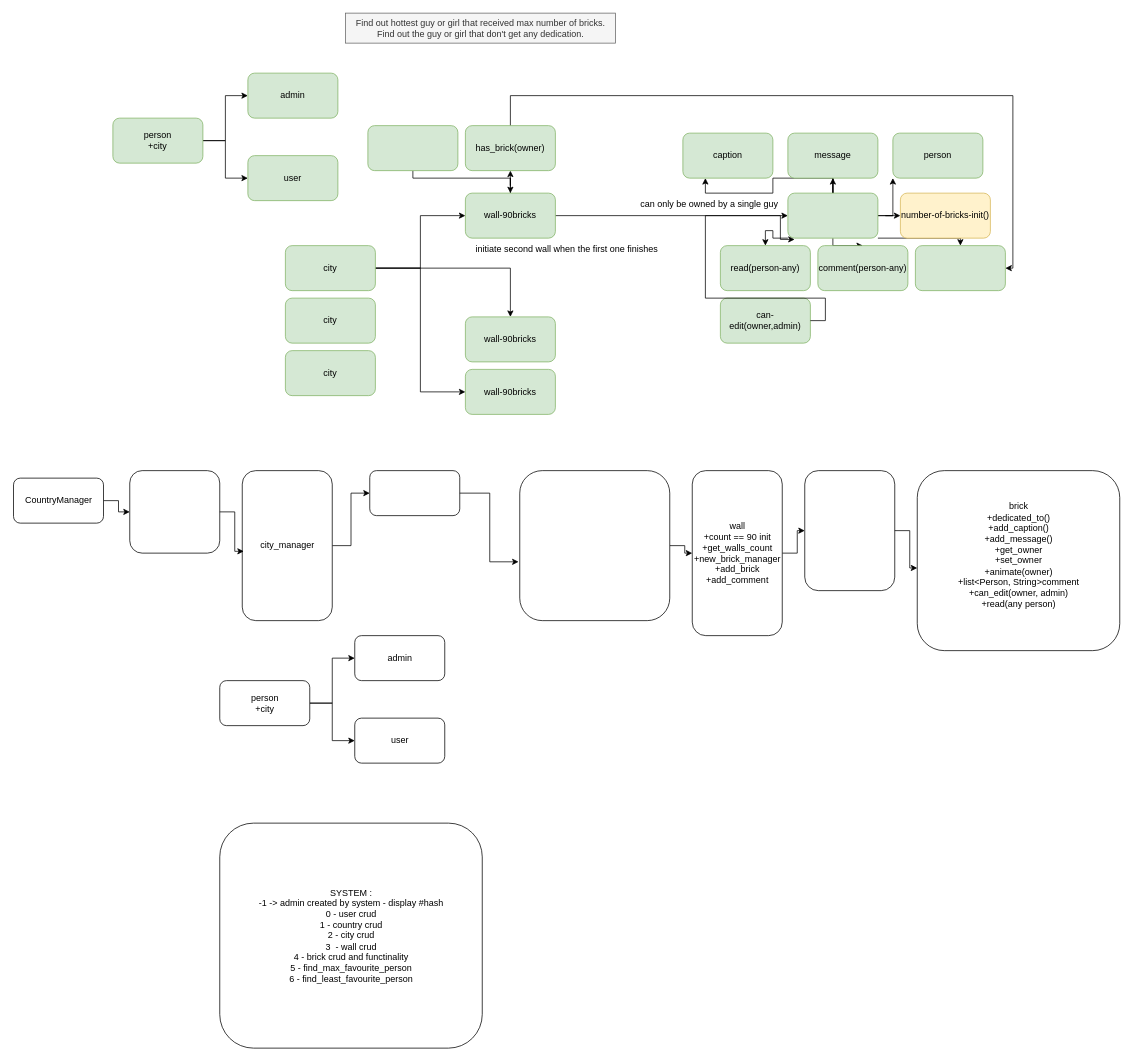
The diagram is 1133 pixels wide and 1061 high, and some of its shapes have lost their labels. The shapes that lost their labels are listed below. From the top down, each one's centre as x and y in pixels, then its label:
[412,148]: number-of-walls-init()
[832,215]: brick
[960,268]: animate(owner)
[174,511]: country
[414,493]: city + new_wallmanager
[594,545]: wall_manager + new_wall-- when the current_wall_finished +delete_wall
[849,530]: brick_manager +create_brick +add_commnet +delete_comment +contains_brick
